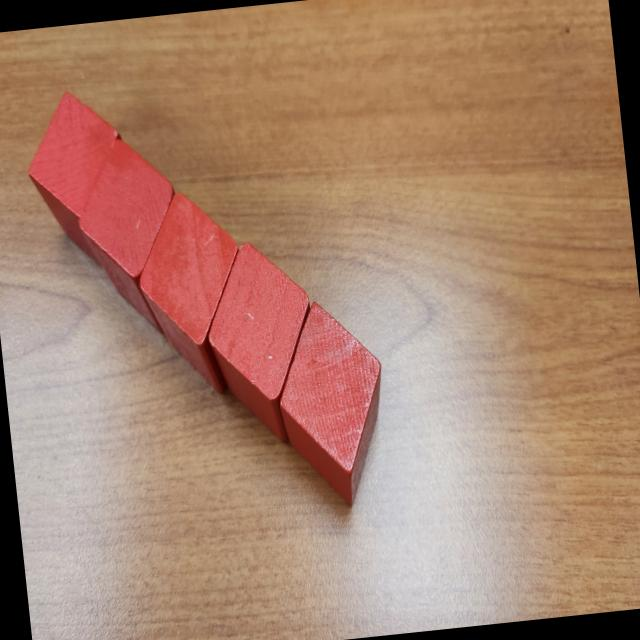red: (269, 294, 396, 514), (197, 236, 324, 452), (130, 185, 254, 402), (69, 134, 188, 342), (20, 85, 136, 271)
